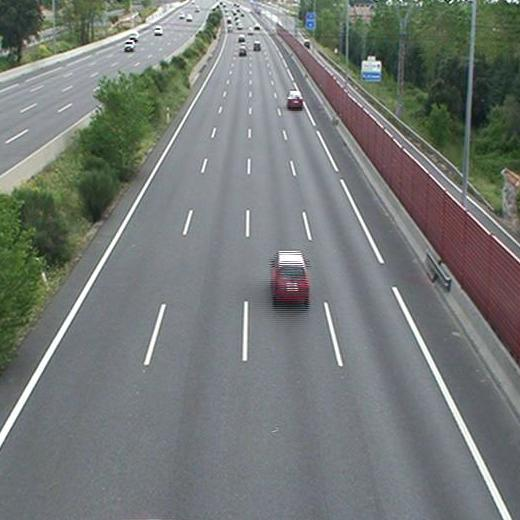car: (271, 251, 308, 299), (287, 90, 303, 108), (253, 42, 262, 51), (238, 47, 245, 54)
